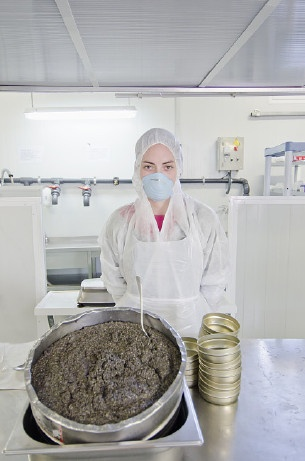Mask: (135, 153, 185, 202)
